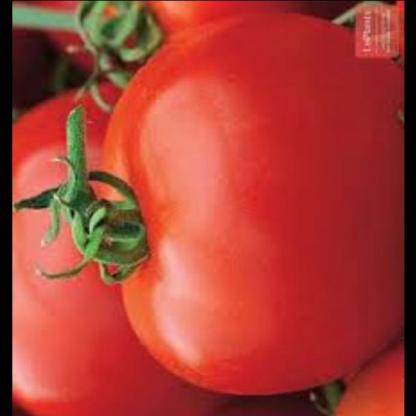tomato: (77, 18, 399, 398), (11, 72, 193, 416), (11, 1, 290, 74), (321, 334, 404, 416)
